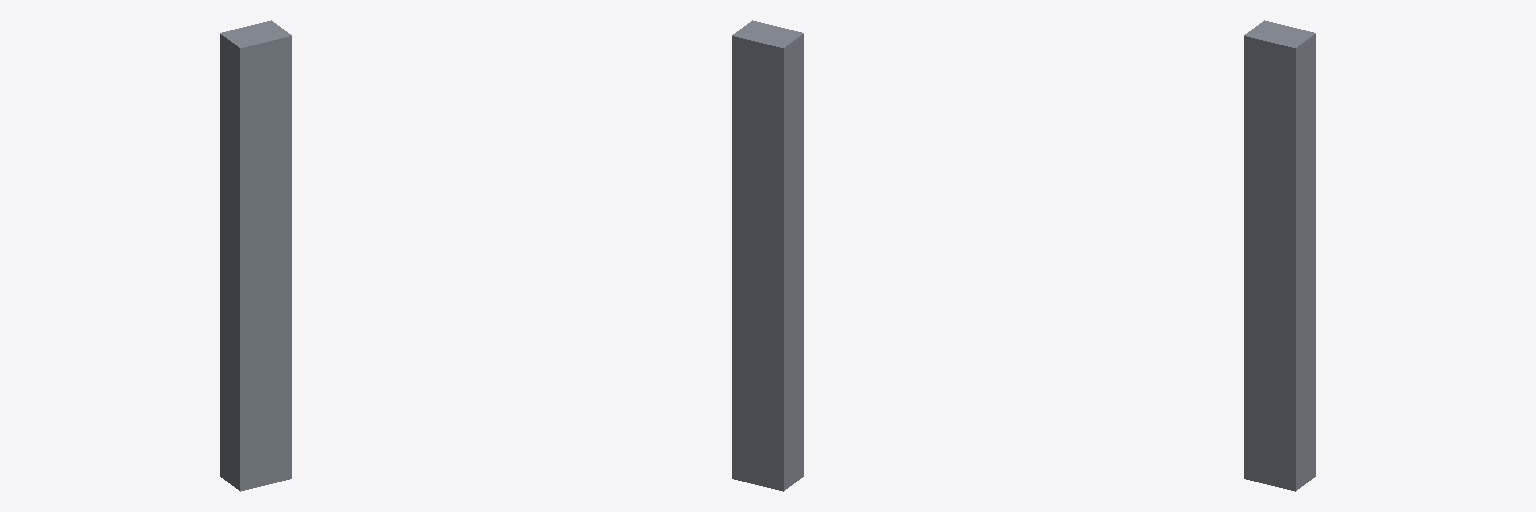
robot.urdf — artmanip_knife_000:
<?xml version='1.0' encoding='utf-8'?>
<robot name="artmanip_knife_000"><link name="link_0"><inertial><mass value="0.029947266376688115" /><inertia ixx="4.701569987602186e-05" iyy="4.737603739421441e-05" izz="1.0412267449033267e-06" ixy="0" ixz="0" iyz="0" /></inertial><visual><geometry><box size="0.016757280527349473 0.011679796169210697 0.13675883139634393" /></geometry><material name="link_0_color"><color rgba=".58 .60 .64 1" /></material></visual><collision><geometry><box size="0.016757280527349473 0.011679796169210697 0.13675883139634393" /></geometry></collision></link><link name="link_1"><inertial><mass value="0.006" /><inertia ixx="4.545e-07" iyy="5e-07" izz="5.45e-08" ixy="0" ixz="0" iyz="0" /></inertial><visual><geometry><mesh filename="slider-shoulder.obj" /></geometry><material name="link_1_color"><color rgba=".12 .13 .15 1" /></material></visual><collision><geometry><mesh filename="slider-shoulder.obj" /></geometry></collision></link><joint name="slider" type="prismatic"><parent link="link_0" /><child link="link_1" /><origin xyz="0.0009425109000856993 0.007291479298109158 0.006463412272304711" /><axis xyz="0 0 1" /><limit lower="-0.03267458688196273" upper="0.017325413118037272" effort="100" velocity="1" /><dynamics damping="1000" friction="0.001" /></joint></robot>

--- Render facts (derived) ---
Views: 3 orthographic renders of the robot side by side, from view 1: azimuth 30°, elevation 25°; view 2: azimuth 150°, elevation 25°; view 3: azimuth 330°, elevation 25°.
Model artmanip_knife_000 with 2 links and 1 joints (1 prismatic), rooted at link_0, posed all joints at 0.
Links seen in each view (by area): view 1: link_0; view 2: link_0; view 3: link_0.
Link boxes in pixels (x1,y1,x2,y2): link_0: (220, 20, 291, 491); link_0: (732, 20, 803, 491); link_0: (1244, 20, 1315, 491).
Size in the robot's own frame: 0.0168 by 0.0117 by 0.1368 metres.
Meshes: 1 distinct files referenced, 0 mesh visuals loaded (none loaded); not drawn: 1 (reference not matched to a file when rendering).
